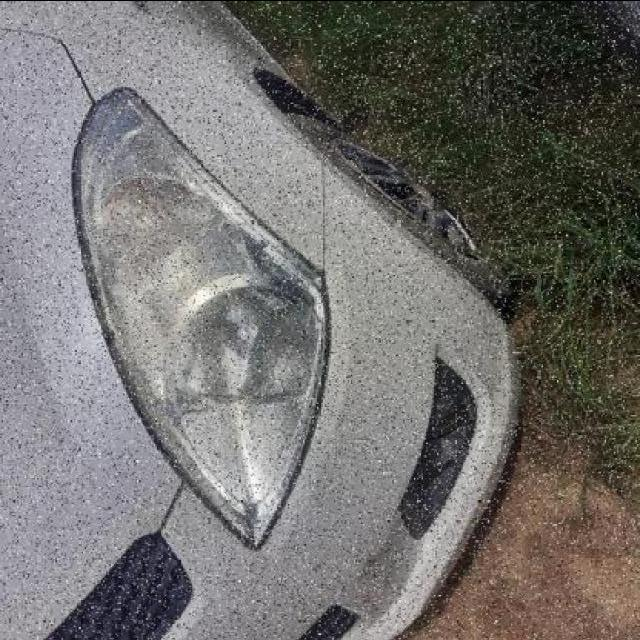front-bumper-dent: (277, 216, 523, 498)
